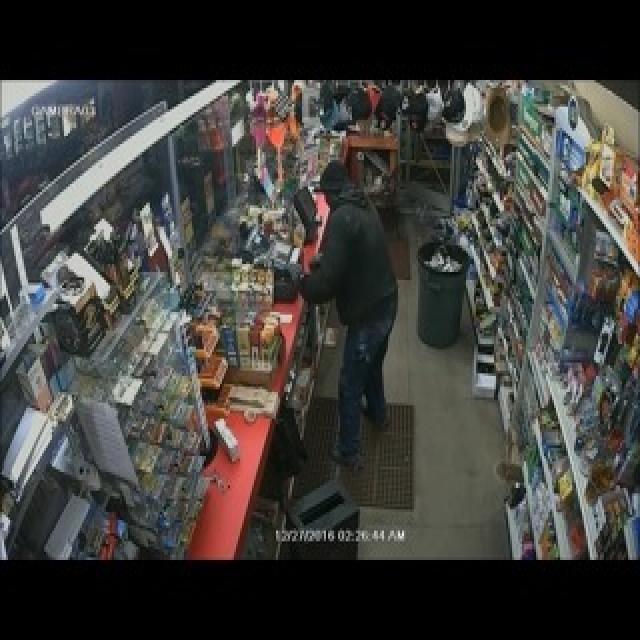thief: (309, 153, 397, 413)
